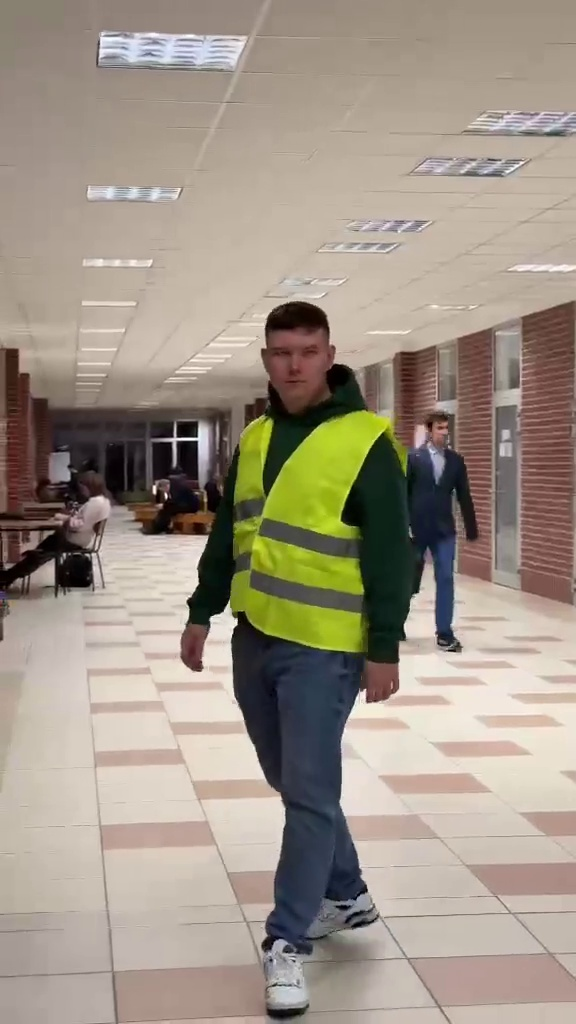no vest: (394, 403, 486, 662), (0, 466, 107, 585)
vest: (202, 292, 396, 998)
